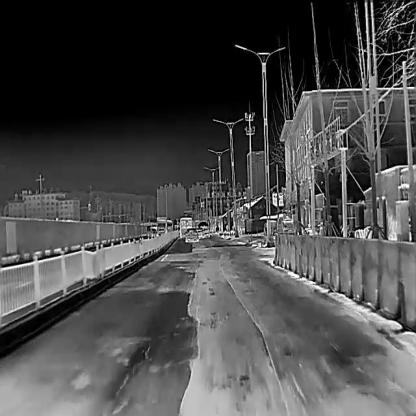car: (185, 228, 198, 242), (199, 225, 209, 237), (197, 227, 203, 237)
truck: (179, 217, 192, 236), (156, 217, 166, 233), (166, 220, 172, 232)
